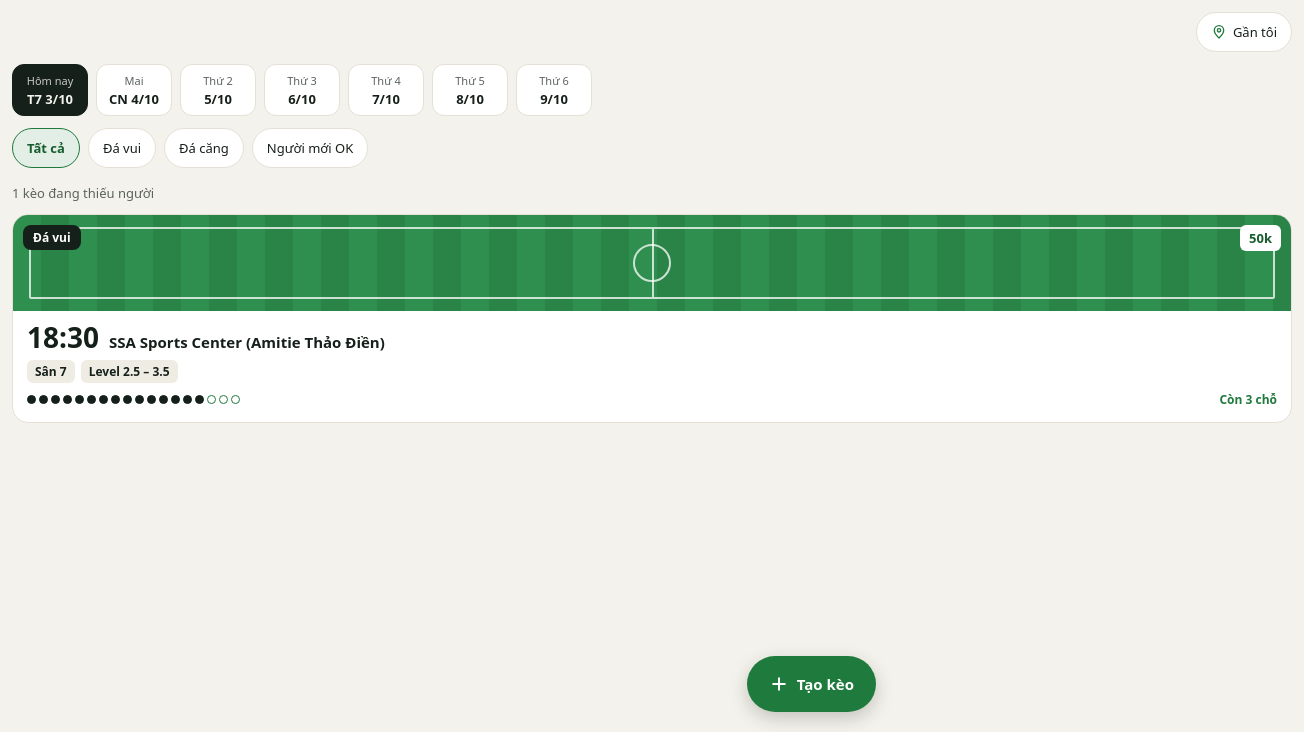
Test: MatchList › shows distances after the visitor shares where they are
This screenshot has width=1304, height=732.
Expected: the link "SSA Sports Center" is shown, x1=12 y1=214 x2=1292 y2=423
Click the button "Gần tôi" at (1244, 32), box x1=1196 y1=12 x2=1292 y2=52
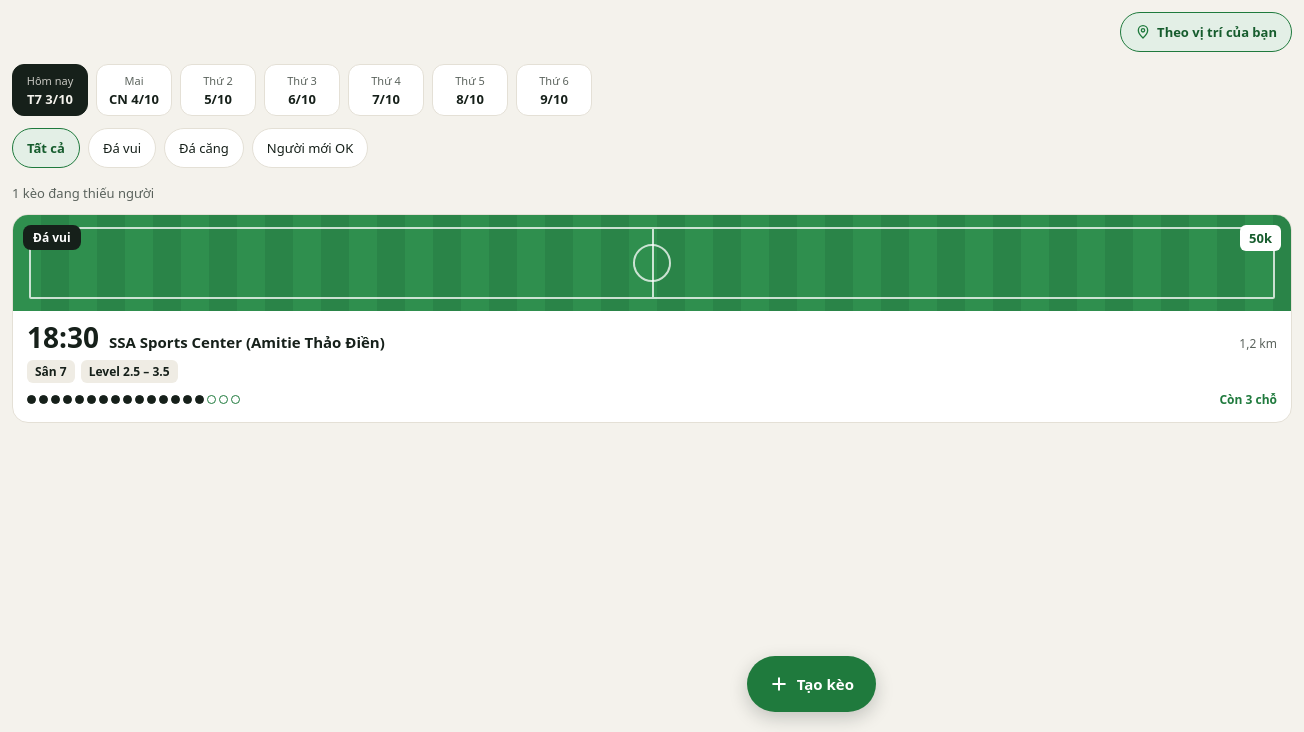
Expected: the text "1,2 km" is shown, x1=1239 y1=335 x2=1277 y2=352
